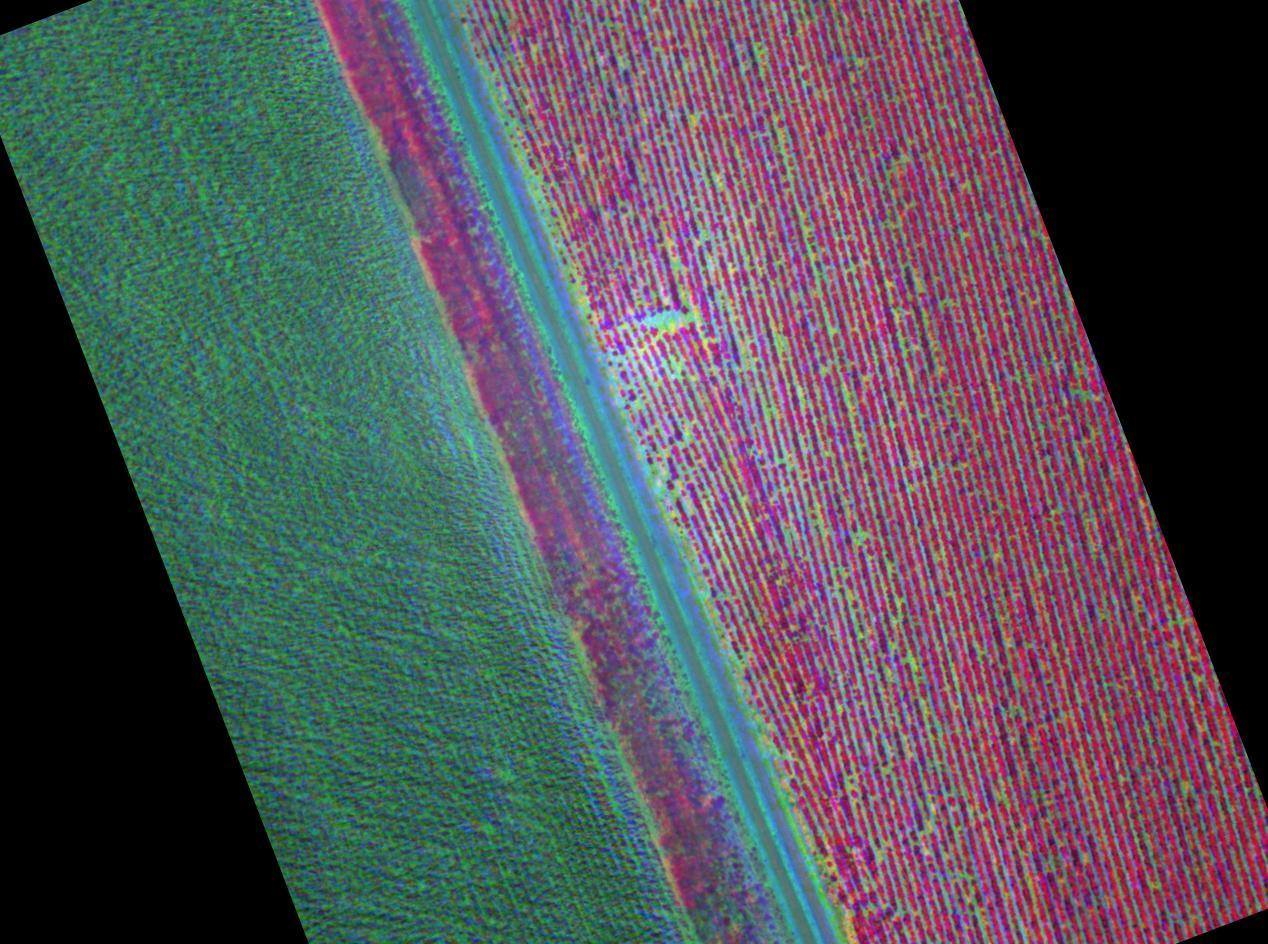dc: (655, 319, 662, 324), (676, 316, 682, 321), (764, 409, 769, 414), (860, 533, 865, 538), (839, 910, 843, 914), (876, 852, 879, 857), (818, 519, 821, 523), (1181, 786, 1184, 790)
